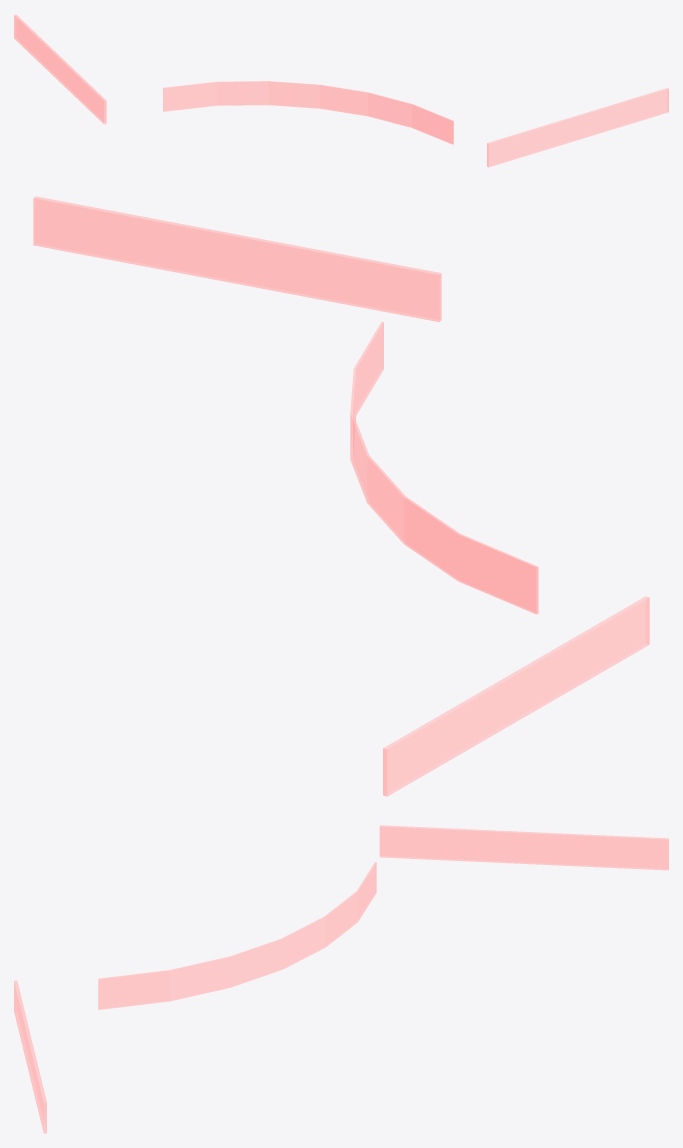
File: Barriers.glb
3 views of the same model, one above another, from view 1: azimuth 30°, elevation 25°; view 2: azimuth 150°, elevation 25°; view 3: azimuth 270°, elevation 25° (orthographic). The views are drawn at different scales.
Visible parts, largest first — view 1: debug_view; view 2: debug_view; view 3: debug_view.
Part boxes in pixels (x1,y1,x2,y2): debug_view: [14, 14, 668, 167]; debug_view: [33, 196, 649, 796]; debug_view: [14, 825, 668, 1133].
Bounding box in the file's own units: 23.22 × 1.2 × 23.14.
